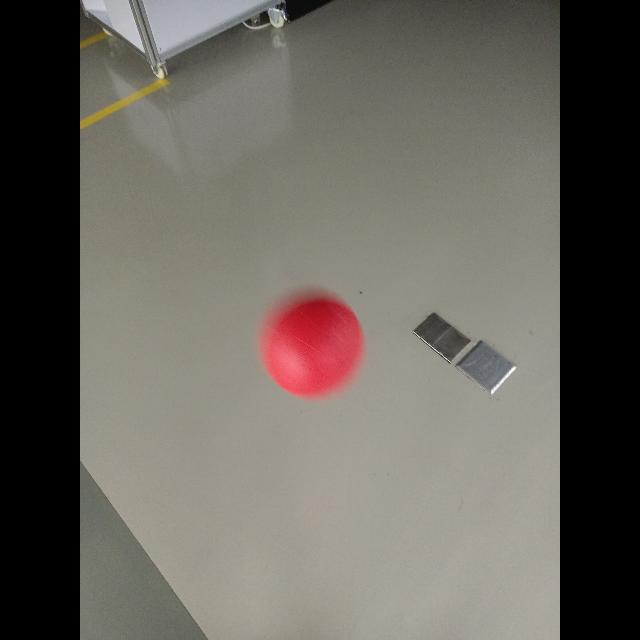R: (262, 288, 361, 402)
